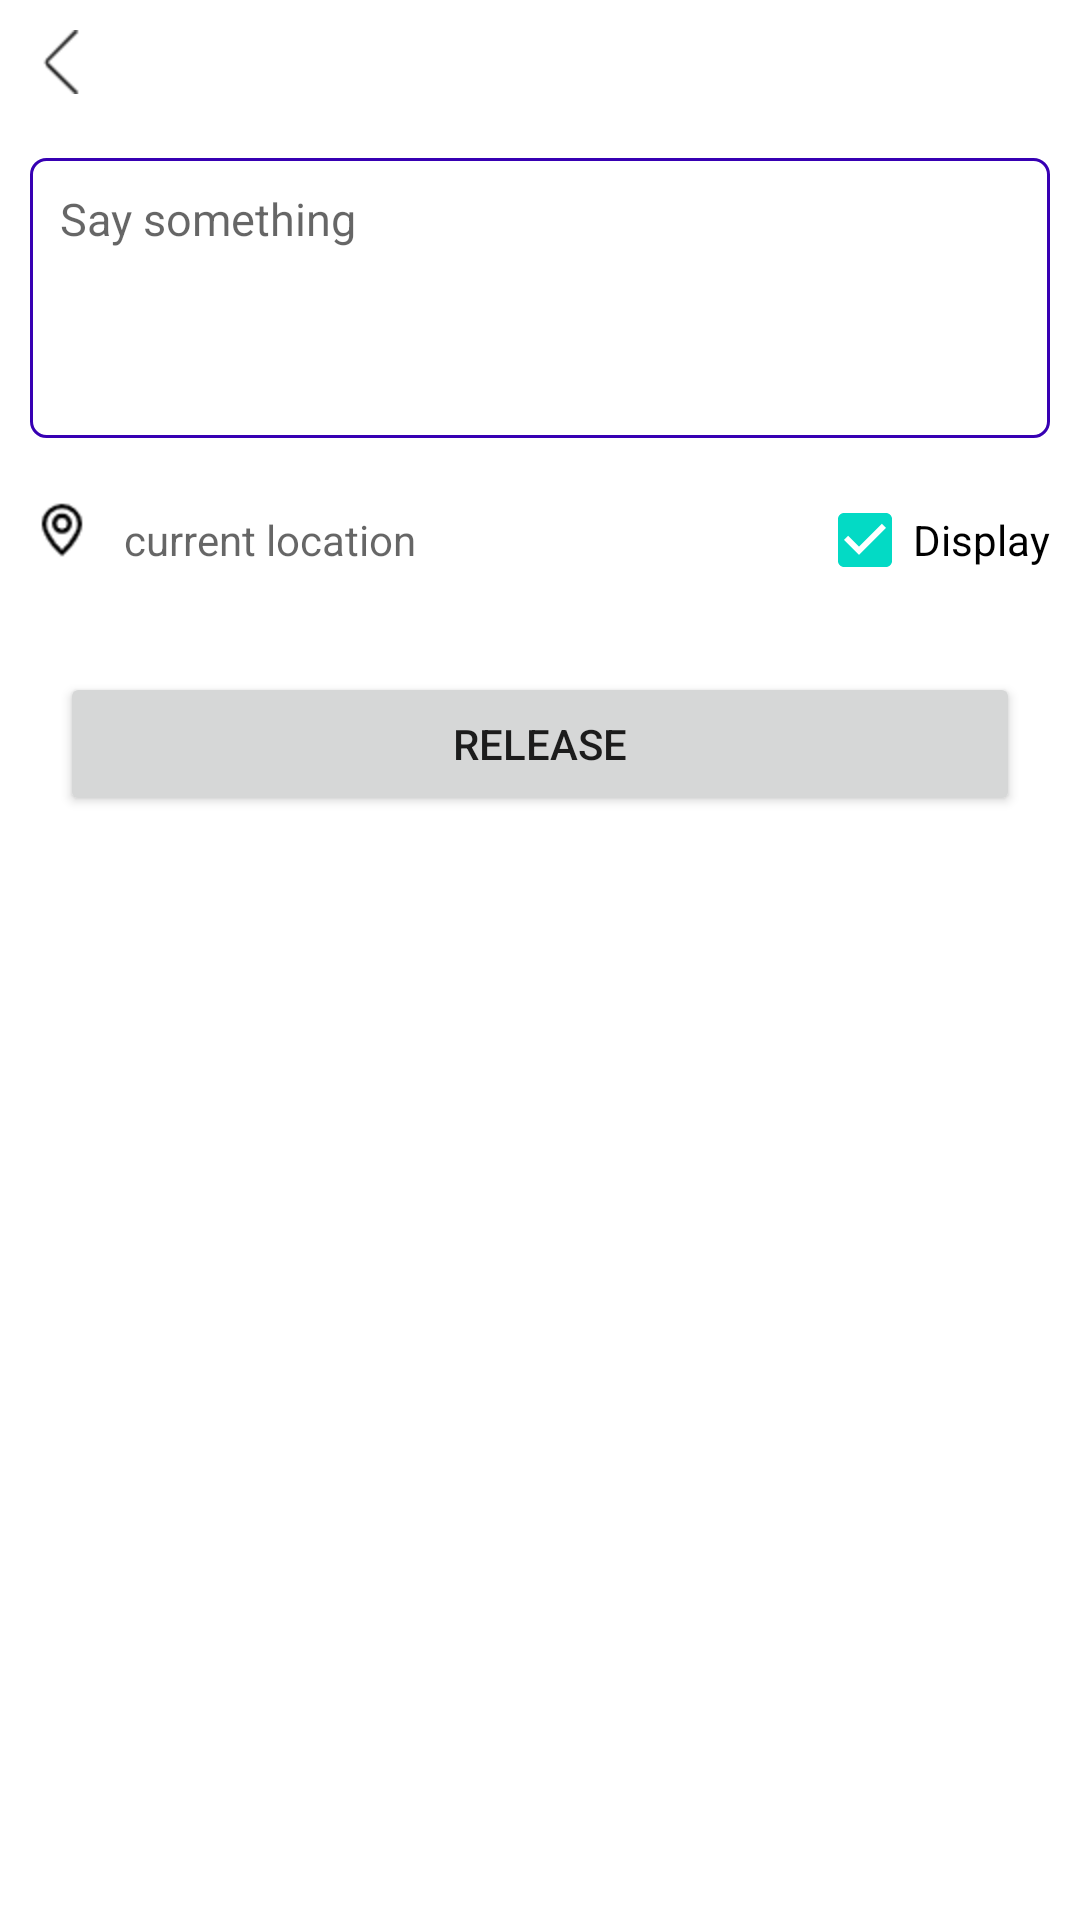

Named icons in this screenshot (1080px×1920px) and their centers, point (x, y):
back: point (61, 62)
